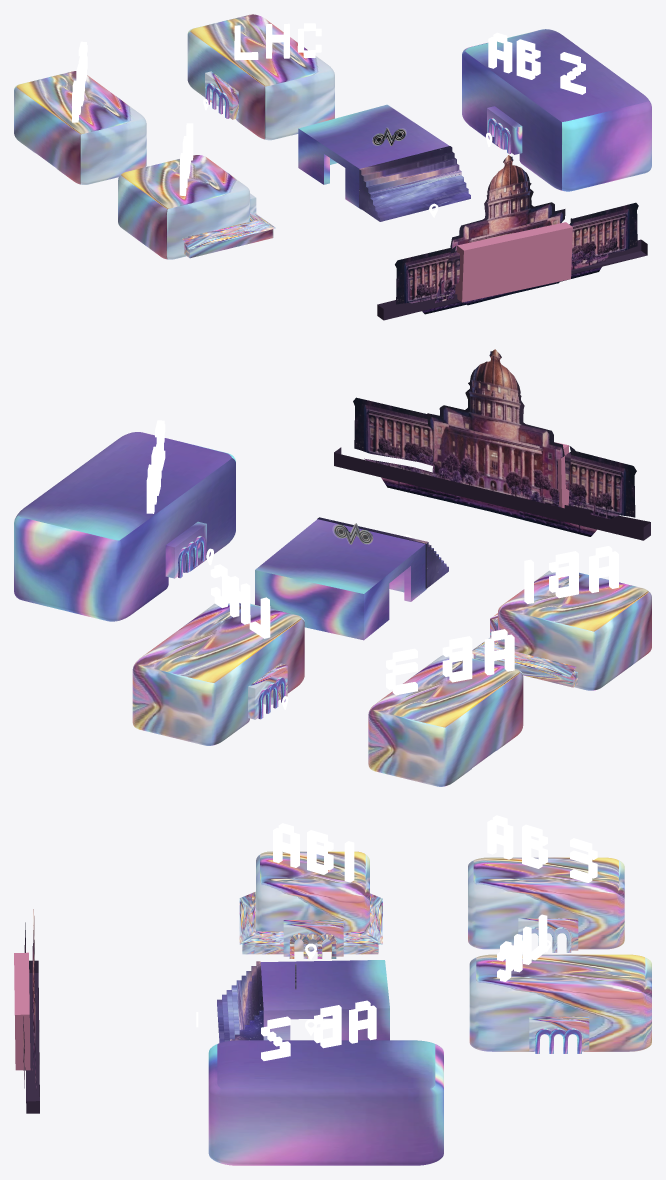
File: draco_textadded.glb
The picture shows the model from 3 angles, top to bottom: view 1: azimuth 30°, elevation 25°; view 2: azimuth 150°, elevation 25°; view 3: azimuth 270°, elevation 25°; orthographic projection. The views are drawn at different scales.
Parts seen in each view (by area): view 1: AB2, dome, LHCnew, AB1, AB3, Mess, Stairs, AB2text, LHCtext, AB3text, AB1extend.002, AB!text (+3 smaller); view 2: AB2, dome, LHCnew, AB3, Mess, AB1, AB3text, AB!text, LHCtext, AB2text, AB1extend.002, Stairs (+2 smaller); view 3: AB2, LHCnew, AB1, AB3, Mess, dome, Stairs, AB3text, AB2text, AB!text, LHCtext, AB1extend.004 (+2 smaller).
Part boxes in pixels (box(x1,y1,x2,y2)): AB2: box(462, 29, 651, 191); dome: box(377, 155, 647, 320); LHCnew: box(187, 14, 334, 140); AB1: box(118, 155, 275, 259); AB3: box(14, 71, 146, 184); Mess: box(298, 104, 449, 209); Stairs: box(359, 146, 470, 221); AB2text: box(488, 32, 585, 94); LHCtext: box(234, 23, 321, 60); AB3text: box(72, 41, 87, 122); AB1extend.002: box(487, 106, 522, 154); AB!text: box(179, 123, 193, 195); AB2: box(14, 432, 235, 621); dome: box(334, 349, 650, 540); LHCnew: box(132, 603, 304, 745); AB3: box(368, 655, 523, 786); Mess: box(255, 519, 426, 640); AB1: box(472, 570, 651, 690); AB3text: box(386, 629, 514, 695); AB!text: box(524, 546, 618, 603); LHCtext: box(210, 564, 270, 638); AB2text: box(146, 420, 165, 513); AB1extend.002: box(165, 521, 206, 578); Stairs: box(317, 517, 448, 588); AB2: box(208, 1040, 443, 1165); LHCnew: box(469, 954, 651, 1051); AB1: box(239, 851, 382, 958); AB3: box(468, 857, 624, 949); Mess: box(260, 960, 389, 1040); dome: box(14, 909, 39, 1113); Stairs: box(217, 961, 263, 1042); AB3text: box(487, 815, 597, 882); AB2text: box(261, 1000, 376, 1060); AB!text: box(273, 823, 354, 882); LHCtext: box(497, 914, 547, 981); AB1extend.004: box(529, 1016, 589, 1051).
Bounding box in the file's own units: 443 × 126 × 476.
Materials: 30 (17 with a texture image).
